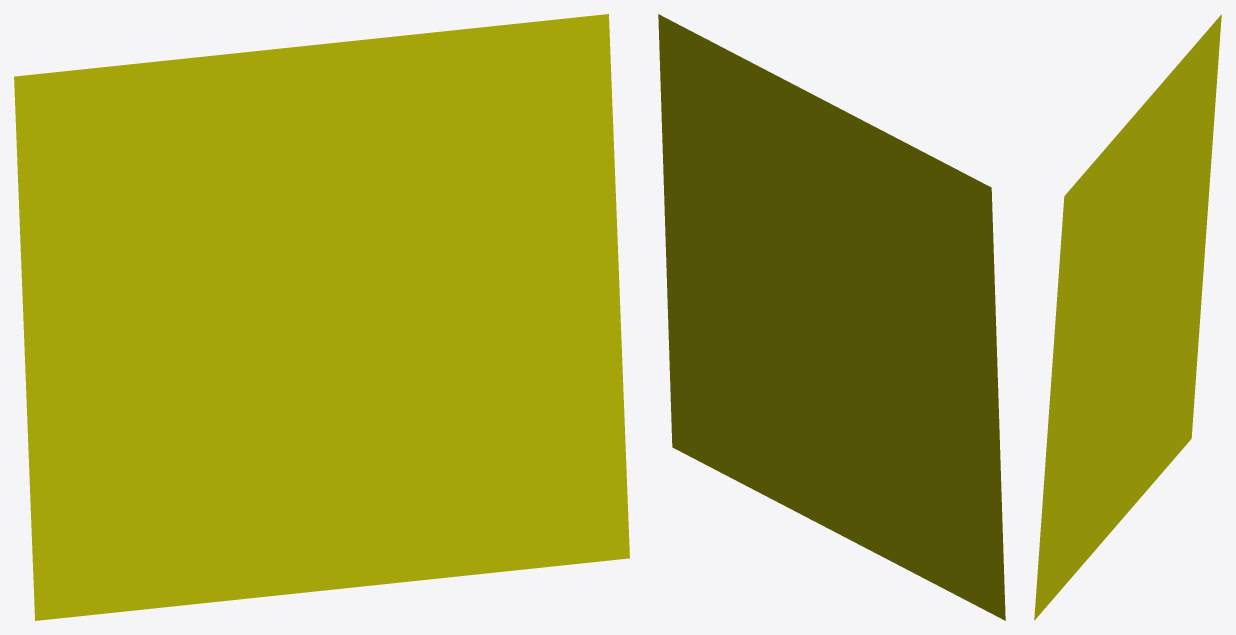
The model's file is postIt1.fbx.
3 renders of one model, left to right at view 1: azimuth 30°, elevation 25°; view 2: azimuth 150°, elevation 25°; view 3: azimuth 270°, elevation 25°, orthographic. The views are drawn at different scales.
Parts seen in each view (by area): view 1: postIt1; view 2: postIt1; view 3: postIt1.
Part boxes in pixels (<box>): postIt1: <box>14,14,629,620</box>; postIt1: <box>658,14,1005,620</box>; postIt1: <box>1034,14,1221,620</box>.
Size of the model in its own units: 0.3014 by 0.3149 by 0.1231.
